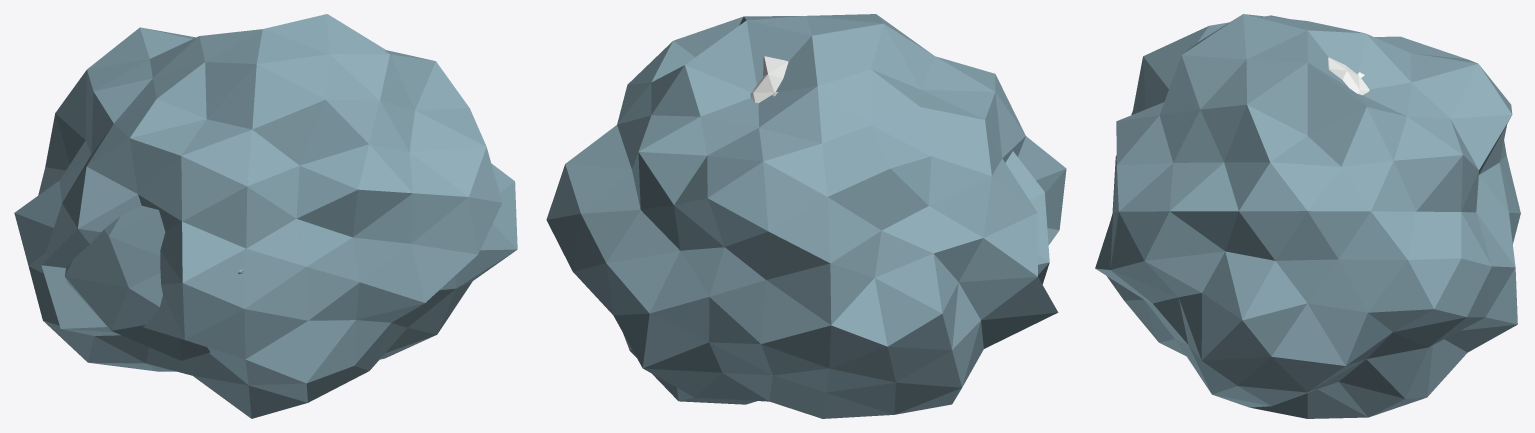
File: mountain-far.glb
The picture shows the model from 3 angles, left to right: view 1: azimuth 30°, elevation 25°; view 2: azimuth 150°, elevation 25°; view 3: azimuth 270°, elevation 25°; orthographic projection. The views are drawn at different scales.
Parts seen in each view (by area): view 1: mountain; view 2: mountain; view 3: mountain.
Boxes of the visible parts, x1=… form: mountain: x1=14, y1=14, x2=517, y2=418; mountain: x1=546, y1=14, x2=1066, y2=418; mountain: x1=1095, y1=14, x2=1520, y2=418.
Size of the model in its own units: 566 by 438 by 472.
